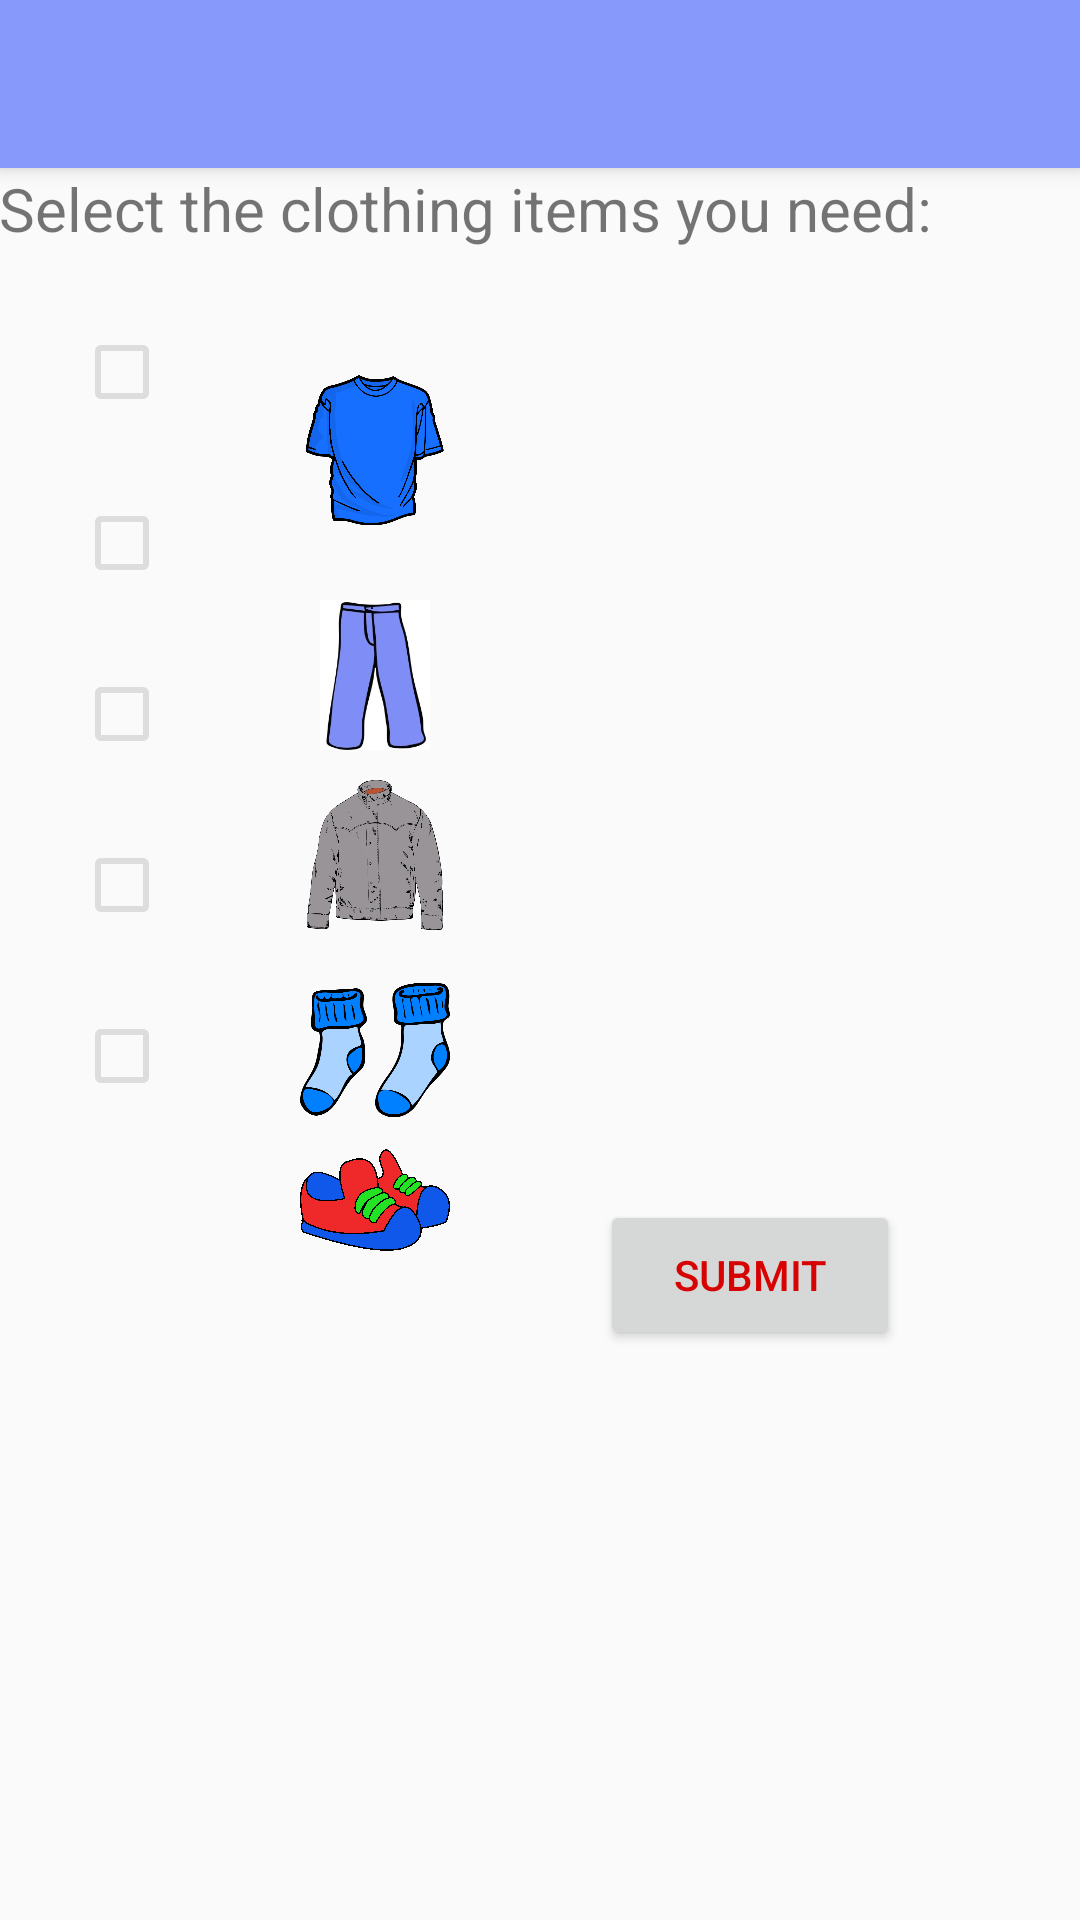

Screen size 1080 × 1920. Icon name, then its center in pixels as (x,y):
jacket: (375,855)
pants: (376,676)
shirt: (375,450)
shoes: (375,1200)
socks: (375,1050)
